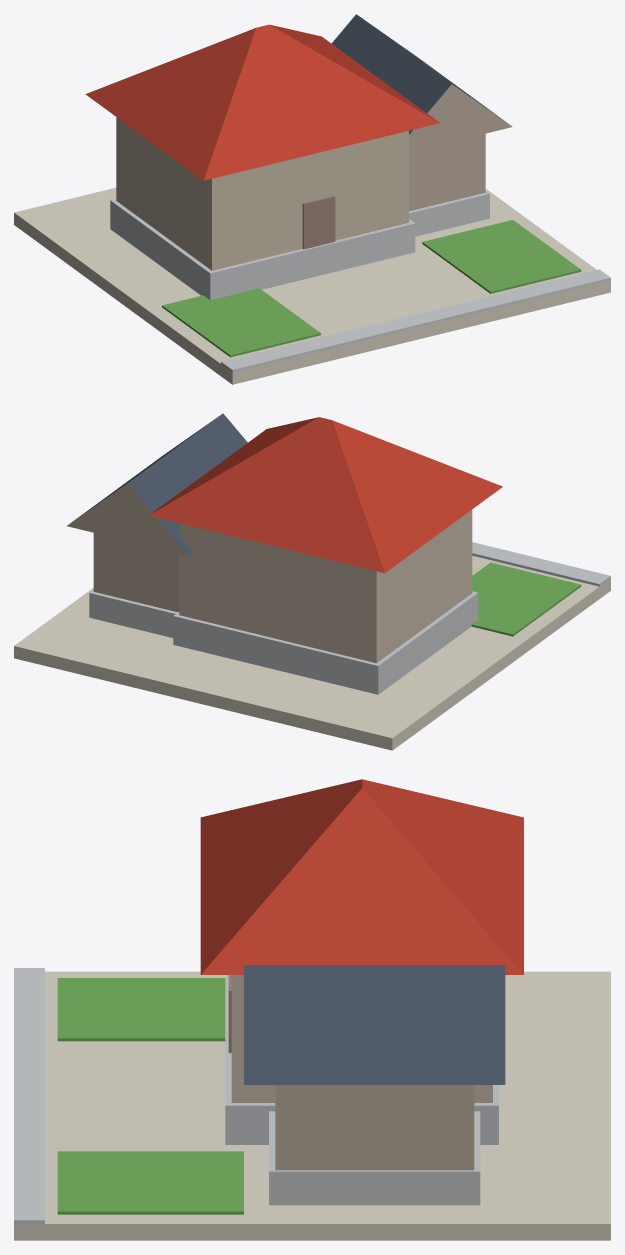
The picture shows the model from 3 angles, top to bottom: view 1: azimuth 30°, elevation 25°; view 2: azimuth 150°, elevation 25°; view 3: azimuth 270°, elevation 25°; orthographic projection. The views are drawn at different scales.
Parts seen in each view (by area): view 1: b02_v2_lod2; view 2: b02_v2_lod2; view 3: b02_v2_lod2.
Part boxes in pixels (<box>): b02_v2_lod2: <box>14,14,610,384</box>; b02_v2_lod2: <box>14,413,610,750</box>; b02_v2_lod2: <box>14,779,610,1240</box>.
Bounding box in the file's own units: 0.96 × 0.55 × 0.96.
